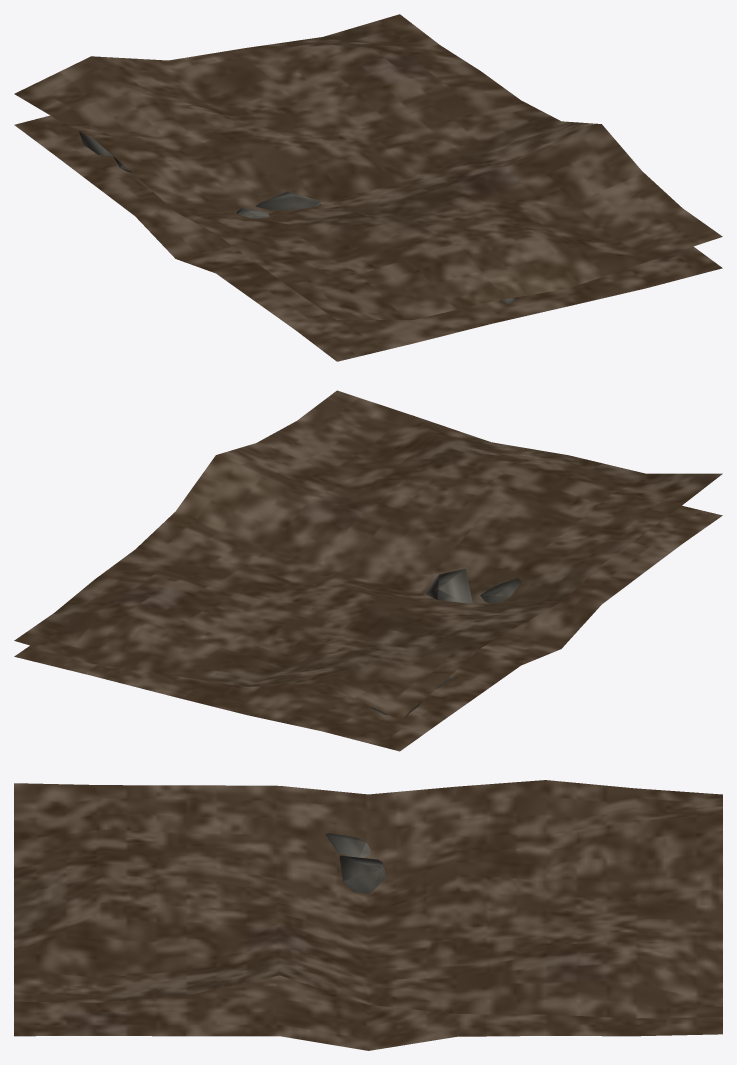
File: starfort_ditch_floor_far.glb
3 views of the same model, one above another, from view 1: azimuth 30°, elevation 25°; view 2: azimuth 150°, elevation 25°; view 3: azimuth 270°, elevation 25° (orthographic). The views are drawn at different scales.
Visible parts, largest first — view 1: silted, intact; view 2: silted, intact; view 3: silted, intact.
Part boxes in pixels (box(x1,y1,x2,y2)): silted: box(14, 14, 722, 319); intact: box(14, 115, 722, 361); silted: box(14, 390, 722, 720); intact: box(14, 505, 722, 751); silted: box(14, 780, 722, 1018); intact: box(14, 975, 722, 1050).
Size of what is drawn, in the model's own units: 4 by 0.7003 by 5.8.
1 material, 1 textured.
